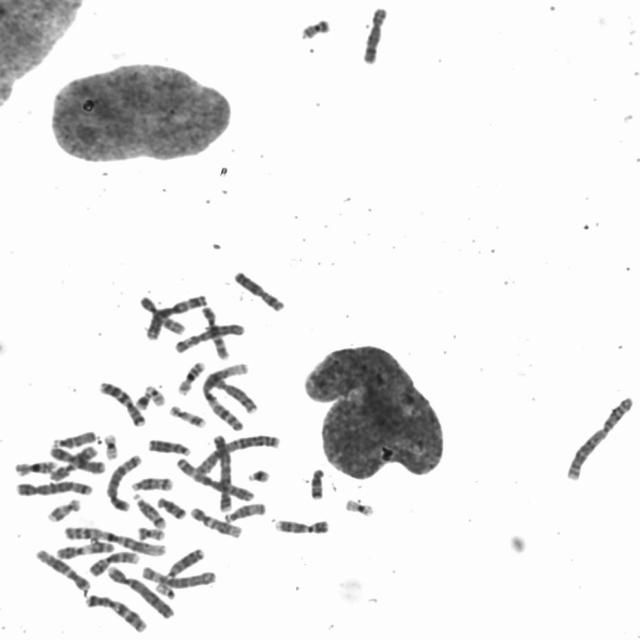A1: (60, 523, 168, 558), (199, 360, 251, 432)
A2: (563, 392, 636, 483), (191, 432, 284, 476)
A3: (172, 454, 256, 502), (143, 292, 208, 341)
B4: (104, 562, 177, 620), (209, 431, 234, 513)
B5: (102, 452, 143, 512), (12, 478, 95, 498)
C10: (136, 294, 187, 336), (198, 304, 231, 361)
C11: (46, 442, 99, 482), (52, 538, 116, 560)
C12: (32, 546, 92, 593), (188, 504, 242, 539)
C6: (171, 320, 247, 355), (138, 562, 218, 590)
C7: (81, 589, 150, 634), (97, 378, 147, 428)
C8: (201, 370, 259, 416), (359, 3, 390, 66)
C9: (86, 548, 142, 578), (272, 515, 330, 536)
D13: (161, 545, 206, 579), (144, 436, 192, 458)
D14: (129, 491, 168, 530), (128, 474, 174, 493)
D15: (221, 498, 267, 524), (50, 428, 98, 448)
E16: (174, 358, 206, 397), (12, 457, 58, 477)
E17: (165, 401, 207, 429), (44, 496, 83, 523)
E18: (155, 493, 188, 520), (307, 465, 327, 501)
F19: (342, 494, 376, 516), (100, 429, 121, 461)
F20: (298, 14, 332, 40), (133, 524, 166, 542)
G21: (244, 466, 272, 484), (132, 388, 152, 410)
G22: (143, 382, 167, 407), (153, 580, 177, 600)
X: (232, 269, 286, 312), (46, 442, 100, 482)
